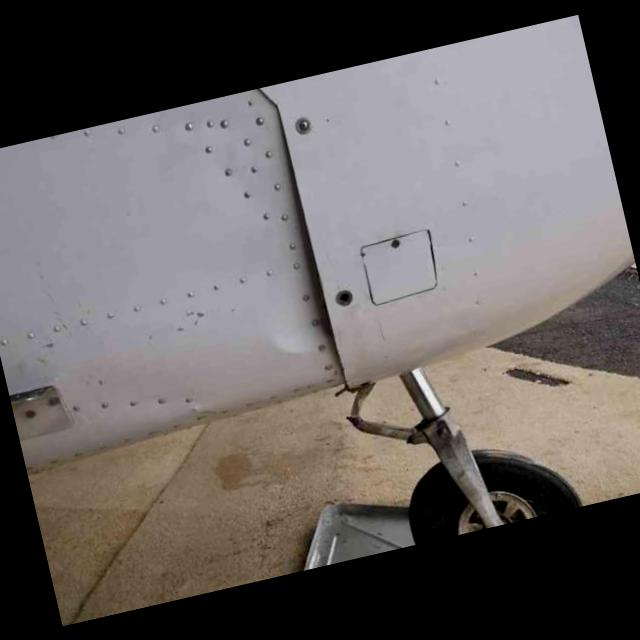dent: (245, 208, 338, 365)
